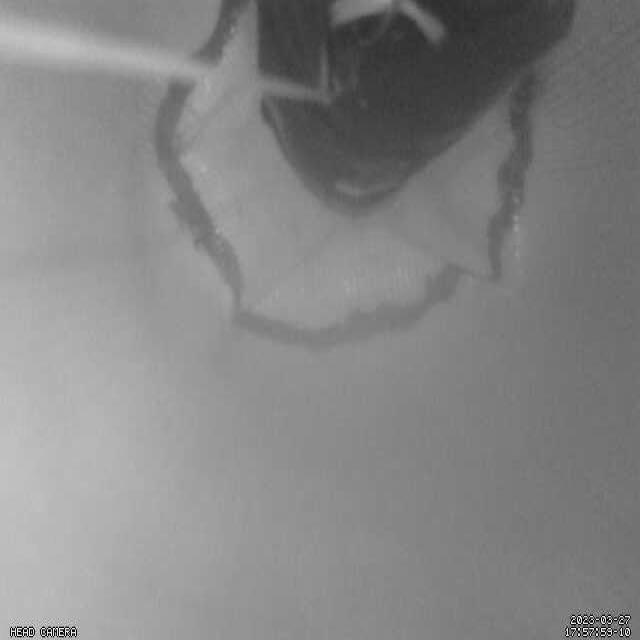red-circle: (153, 1, 543, 352)
